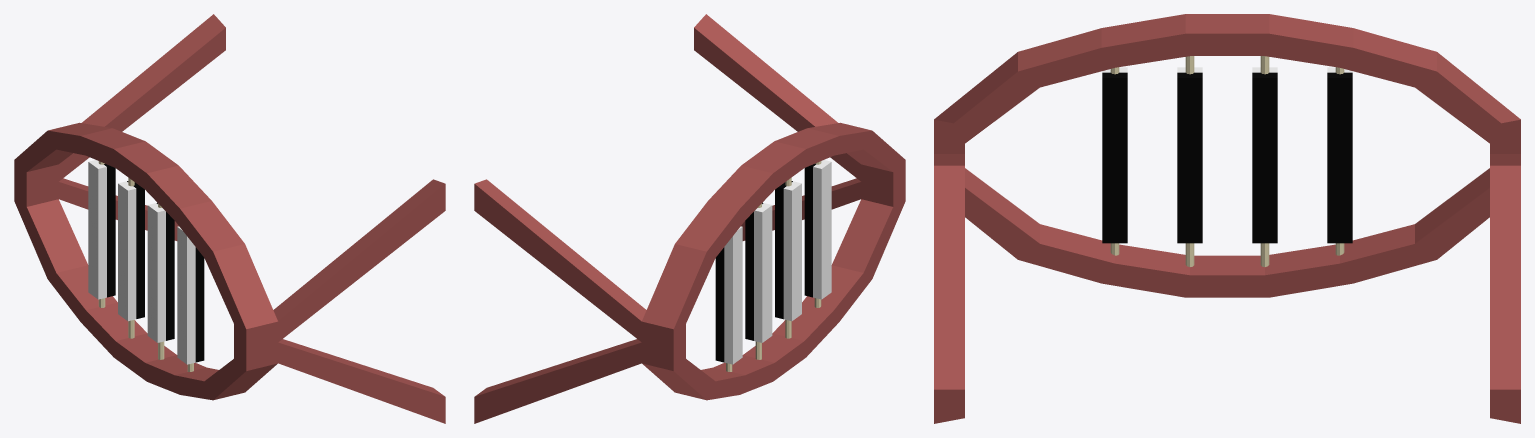
File: tokenSupport.fbx
3 renders of one model, left to right at view 1: azimuth 30°, elevation 25°; view 2: azimuth 150°, elevation 25°; view 3: azimuth 270°, elevation 25°, orthographic. The views are drawn at different scales.
Parts seen in each view (by area): view 1: Support, Piece1, Piece3, Piece2, Piece4; view 2: Support, Piece4, Piece2, Piece3, Piece1; view 3: Support, Piece3, Piece2, Piece1, Piece4.
Part boxes in pixels (bbox=[...]): Support: bbox=[14, 14, 445, 423]; Piece1: bbox=[88, 160, 115, 307]; Piece3: bbox=[147, 202, 174, 359]; Piece2: bbox=[118, 177, 144, 338]; Piece4: bbox=[177, 226, 204, 371]; Support: bbox=[474, 14, 905, 423]; Piece4: bbox=[804, 160, 831, 307]; Piece2: bbox=[745, 202, 772, 359]; Piece3: bbox=[775, 177, 801, 338]; Piece1: bbox=[715, 226, 742, 371]; Support: bbox=[934, 14, 1520, 423]; Piece3: bbox=[1177, 56, 1202, 266]; Piece2: bbox=[1252, 56, 1277, 266]; Piece1: bbox=[1327, 67, 1352, 255]; Piece4: bbox=[1102, 67, 1127, 255].
Bounding box in the file's own units: 77.51 × 89.34 × 156.
